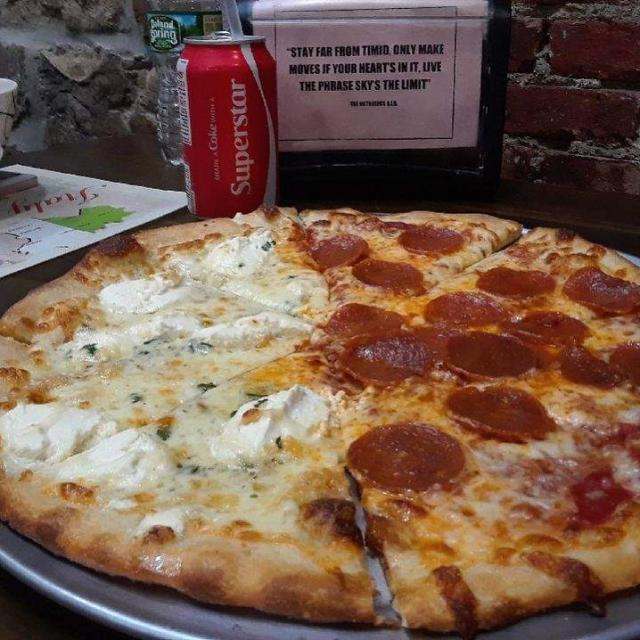basil: (230, 260, 255, 283), (179, 462, 216, 474), (188, 338, 213, 354), (261, 232, 276, 252), (156, 426, 172, 441), (81, 344, 98, 356), (198, 382, 216, 392), (276, 436, 282, 449)
pepperoni: (347, 422, 464, 492), (446, 386, 556, 442), (446, 331, 536, 379), (562, 266, 640, 314), (424, 291, 510, 327), (558, 341, 622, 388), (357, 334, 432, 374), (325, 302, 404, 338), (476, 266, 556, 300), (352, 259, 427, 294), (514, 313, 588, 343), (398, 225, 465, 256), (310, 234, 368, 269)
pizza: (0, 206, 640, 637)
